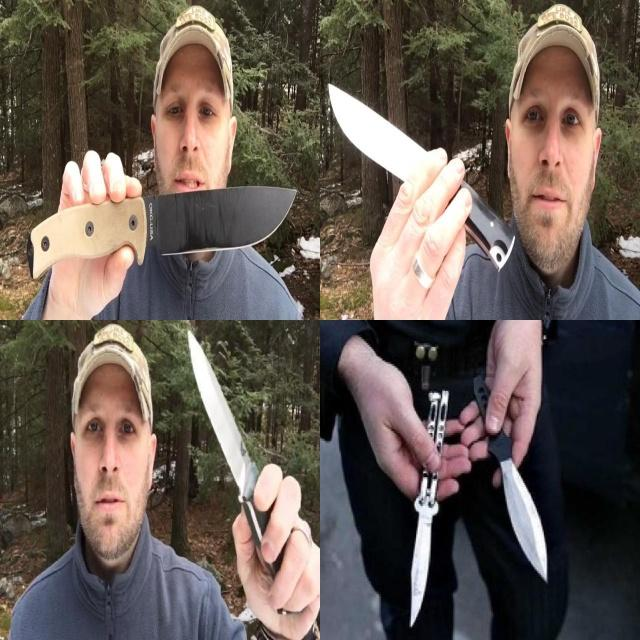knife: (81, 147, 300, 273), (184, 325, 293, 565), (325, 80, 464, 245), (469, 372, 548, 586), (399, 381, 449, 630)
